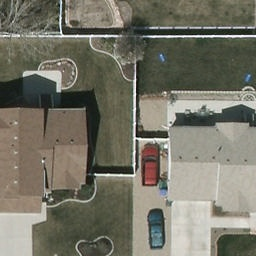car: (141, 146, 159, 187)
pickup: (146, 211, 166, 249)
